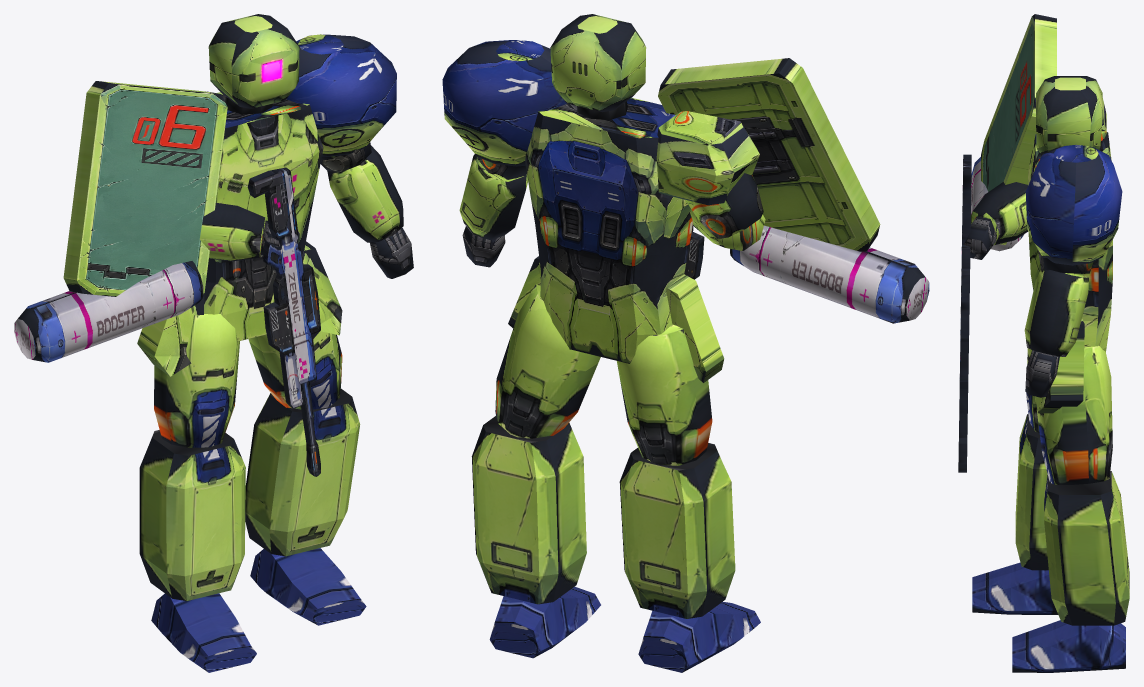
The model's file is painted-lime-shield-v1.glb.
The picture shows the model from 3 angles, left to right: view 1: azimuth 30°, elevation 25°; view 2: azimuth 150°, elevation 25°; view 3: azimuth 270°, elevation 25°; orthographic projection. The views are drawn at different scales.
Parts seen in each view (by area): view 1: CORE_upper_arm.R, CORE_shin.R, CORE_shin.L, CORE_chest, CORE_upper_arm.L, CORE_hand.R, CORE_thigh.R, CORE_pelvis, CORE_head, CORE_foot.L, CORE_foot.R, CORE_forearm.L (+3 smaller); view 2: CORE_upper_arm.R, CORE_chest, CORE_shin.L, CORE_shin.R, CORE_upper_arm.L, CORE_pelvis, CORE_thigh.R, CORE_thigh.L, CORE_head, CORE_foot.R, CORE_foot.L, CORE_forearm.L (+2 smaller); view 3: CORE_shin.L, CORE_upper_arm.L, CORE_upper_arm.R, CORE_thigh.L, CORE_foot.L, CORE_head, CORE_forearm.L, CORE_shin.R, CORE_hand.R, CORE_foot.R, CORE_pelvis, CORE_chest (+3 smaller).
Part boxes in pixels (<box>): CORE_upper_arm.R: <box>14,81,227,362</box>; CORE_shin.R: <box>139,430,245,600</box>; CORE_shin.L: <box>245,388,360,556</box>; CORE_chest: <box>206,92,323,282</box>; CORE_upper_arm.L: <box>286,34,396,171</box>; CORE_hand.R: <box>247,167,320,476</box>; CORE_thigh.R: <box>154,313,239,447</box>; CORE_pelvis: <box>137,241,342,376</box>; CORE_head: <box>208,14,299,108</box>; CORE_foot.L: <box>250,548,366,625</box>; CORE_foot.R: <box>151,593,256,672</box>; CORE_forearm.L: <box>327,145,403,242</box>; CORE_upper_arm.R: <box>656,58,929,323</box>; CORE_chest: <box>525,97,692,300</box>; CORE_shin.L: <box>471,416,586,604</box>; CORE_shin.R: <box>619,443,735,618</box>; CORE_upper_arm.L: <box>442,40,566,179</box>; CORE_pelvis: <box>508,256,724,382</box>; CORE_thigh.R: <box>617,324,712,465</box>; CORE_thigh.L: <box>495,284,600,438</box>; CORE_head: <box>550,14,646,112</box>; CORE_foot.R: <box>638,602,760,672</box>; CORE_foot.L: <box>489,586,600,658</box>; CORE_forearm.L: <box>459,154,527,240</box>; CORE_shin.L: <box>1044,471,1129,625</box>; CORE_upper_arm.L: <box>1025,144,1122,273</box>; CORE_upper_arm.R: <box>971,14,1106,251</box>; CORE_thigh.L: <box>1035,345,1112,484</box>; CORE_foot.L: <box>1012,620,1125,672</box>; CORE_head: <box>1036,76,1102,155</box>; CORE_forearm.L: <box>1024,268,1088,356</box>; CORE_shin.R: <box>1015,414,1048,570</box>; CORE_hand.R: <box>958,154,996,472</box>; CORE_foot.R: <box>972,562,1058,614</box>; CORE_pelvis: <box>1035,314,1110,413</box>; CORE_chest: <box>1028,129,1112,320</box>.
Size of the model in its own units: 3.13 by 4.3 by 1.21.
1 material, 1 textured.
